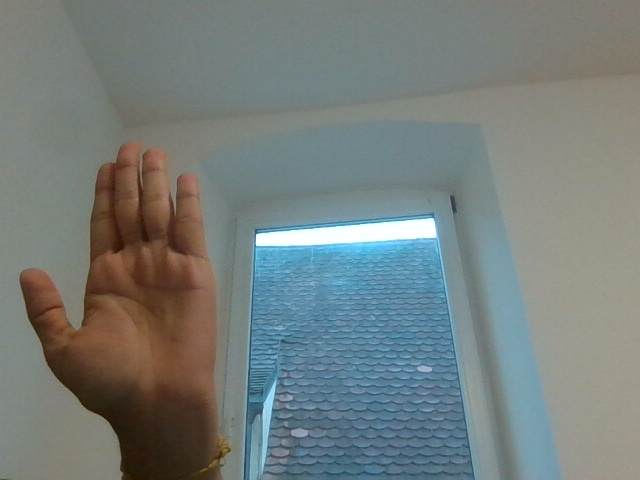open_hand: (10, 124, 266, 439)
